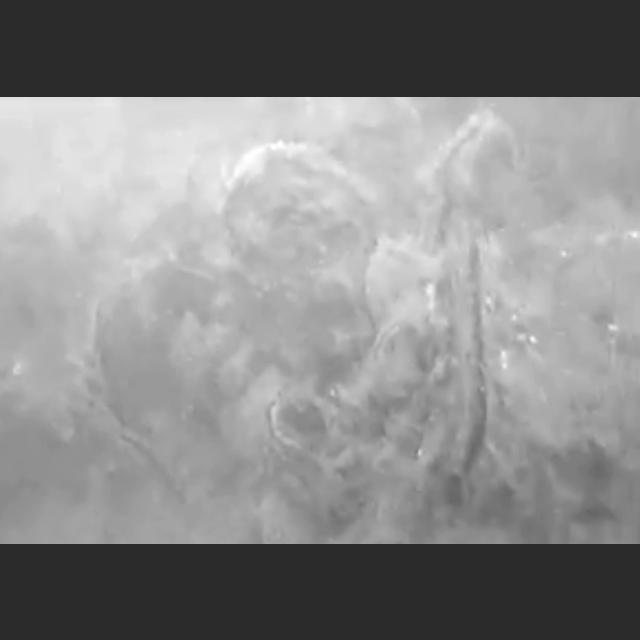Oyster-Closed: (215, 138, 379, 354)
Oyster-Open: (439, 224, 505, 480), (412, 107, 522, 255), (258, 382, 352, 468), (362, 316, 426, 404)
